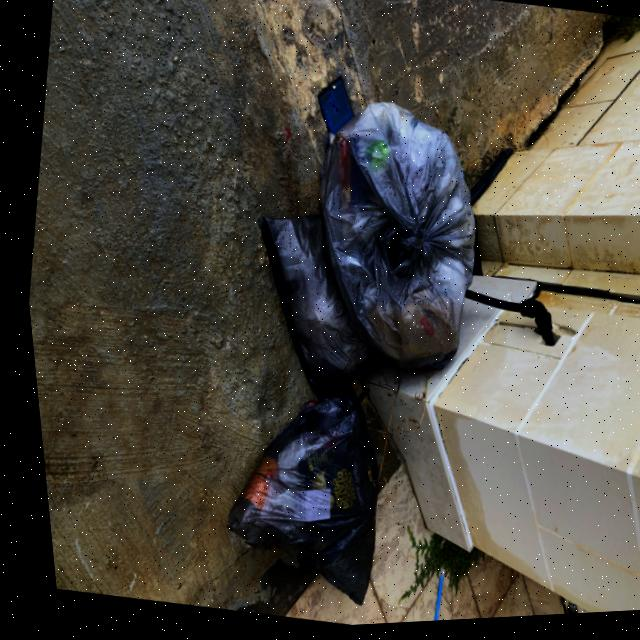Mixed Waste -Black Bag-: (281, 93, 503, 386), (193, 365, 397, 618), (222, 203, 393, 408)
